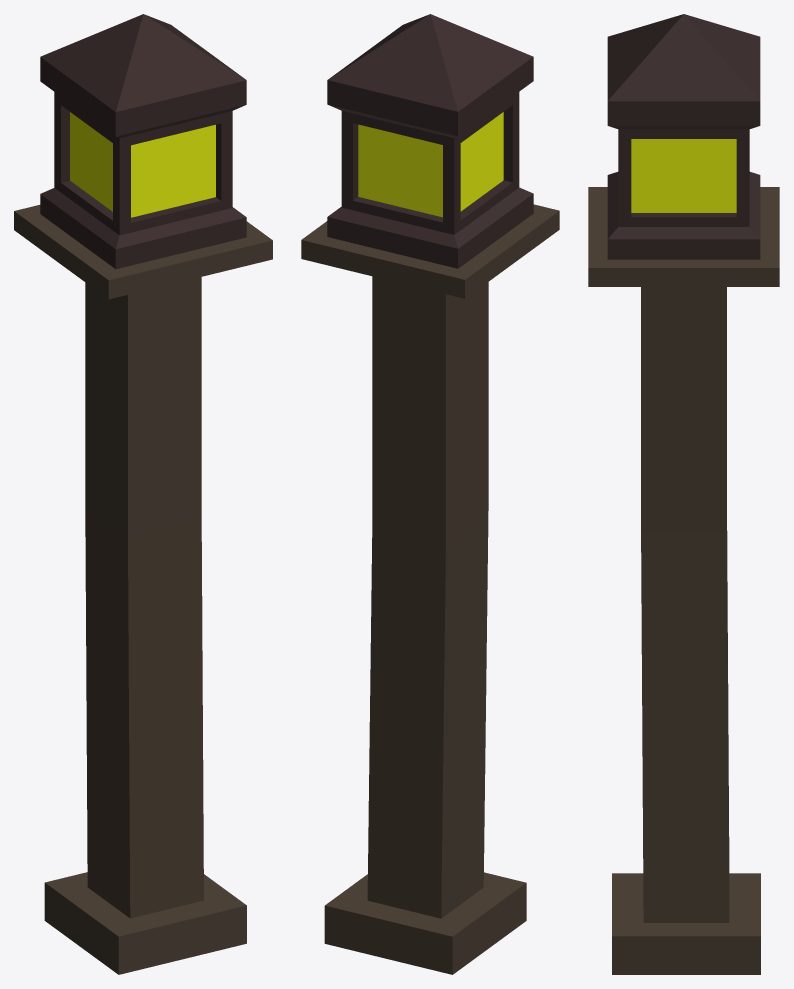
The model's file is Lantern on a stick.fbx.
3 views of the same model, side by side, from view 1: azimuth 30°, elevation 25°; view 2: azimuth 150°, elevation 25°; view 3: azimuth 270°, elevation 25° (orthographic).
Parts seen in each view (by area): view 1: Cube; view 2: Cube; view 3: Cube.
Boxes of the visible parts, left/top/right/bottom form: Cube: left=14, top=14, right=272, bottom=974; Cube: left=301, top=14, right=559, bottom=974; Cube: left=588, top=14, right=779, bottom=974.
Size of the model in its own units: 179 by 961 by 179.
